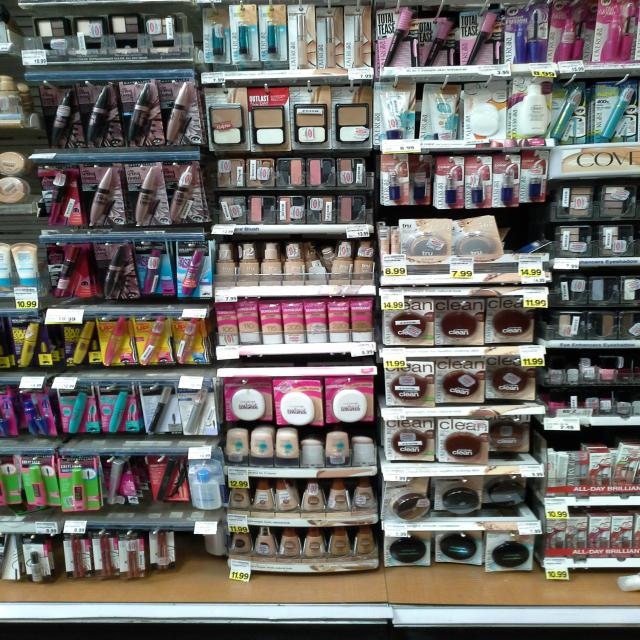unorganised: (451, 219, 553, 260), (144, 456, 189, 513), (418, 85, 462, 141), (552, 81, 590, 144), (419, 11, 458, 68), (486, 361, 537, 404), (386, 479, 431, 524), (203, 4, 232, 66), (486, 478, 533, 516), (435, 479, 483, 516), (407, 153, 435, 207), (306, 243, 340, 285), (147, 532, 178, 578), (297, 432, 325, 468), (348, 434, 376, 469)
